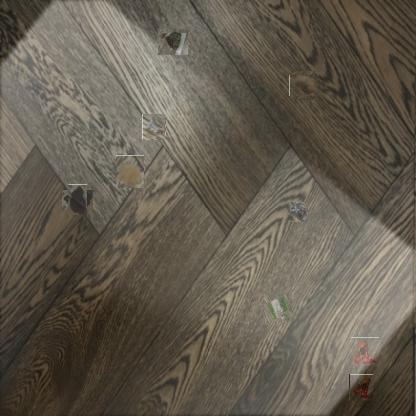dirty: (351, 337, 379, 366), (264, 294, 292, 322), (158, 29, 188, 55), (291, 73, 317, 98), (349, 374, 373, 401), (141, 115, 166, 140), (288, 202, 308, 222)
liquid: (116, 155, 144, 188), (65, 187, 90, 213)
